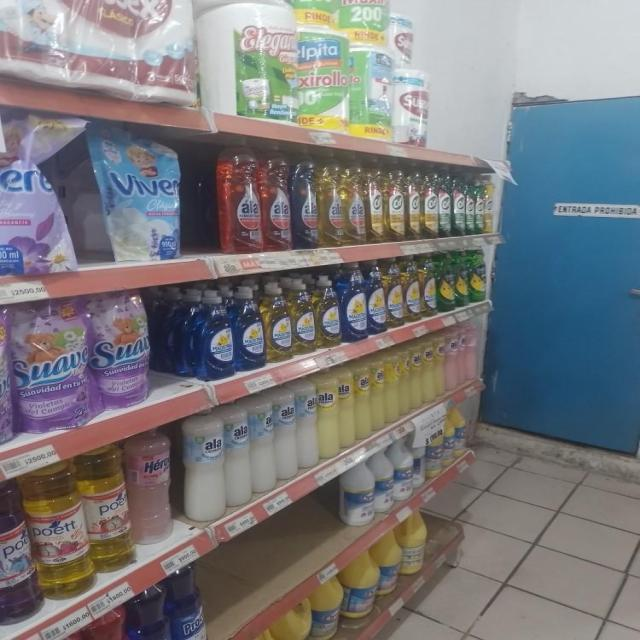ala_conc_amarillo: (318, 164, 342, 248), (343, 167, 366, 246)
ala_conc_rojo: (216, 137, 261, 254), (262, 143, 292, 253)
ala_crem_amarillo: (318, 371, 338, 460), (338, 365, 354, 450), (355, 360, 370, 441), (370, 356, 385, 434), (385, 351, 400, 425), (409, 342, 422, 411), (398, 348, 411, 416), (422, 338, 434, 403), (436, 333, 446, 400)
ala_crem_blanco: (180, 411, 224, 523), (225, 404, 250, 508), (251, 396, 274, 496), (275, 386, 296, 483), (297, 378, 317, 469)
ala_crem_rosado: (446, 327, 459, 393)
cif_conc_bot_amarilla: (366, 171, 386, 244), (386, 171, 406, 242), (406, 172, 422, 241), (422, 173, 438, 240)
cif_conc_botella_verde: (438, 174, 452, 238), (452, 175, 465, 237)
heroe: (128, 429, 174, 548)
magistral_con_amarillo: (265, 281, 291, 363), (315, 275, 340, 348), (292, 278, 315, 355), (386, 261, 402, 328), (421, 255, 437, 318), (404, 257, 419, 323)
magistral_con_azul: (198, 288, 234, 381), (234, 285, 264, 372), (341, 266, 366, 342), (367, 263, 386, 336)
